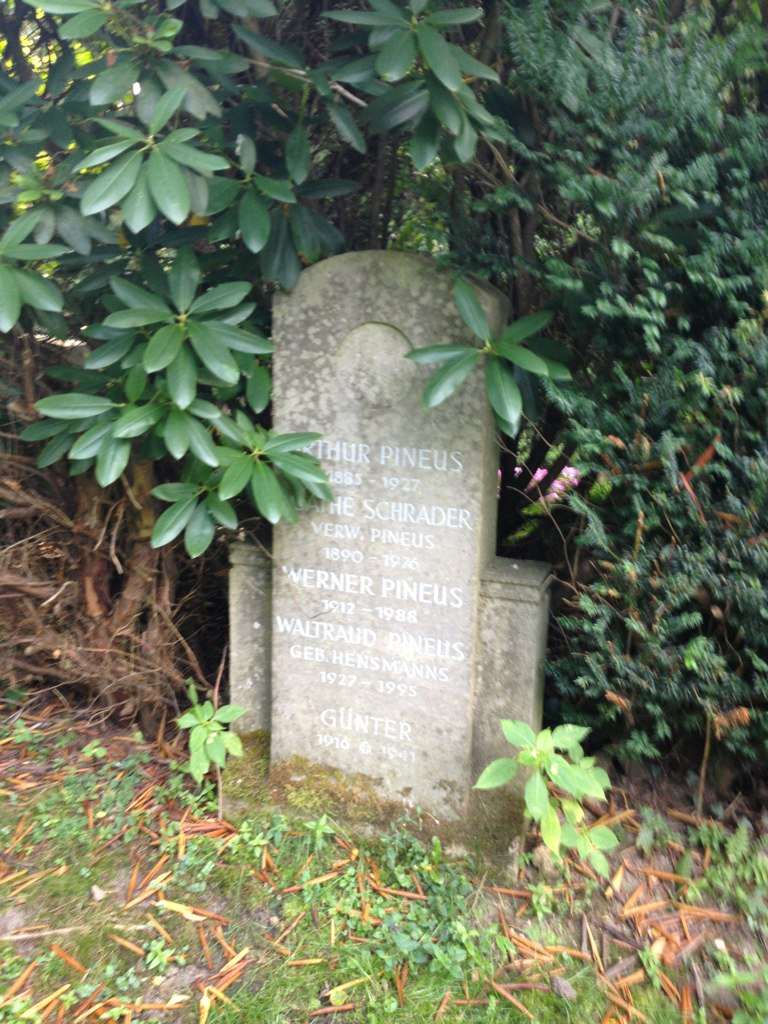upright: (227, 244, 547, 832)
